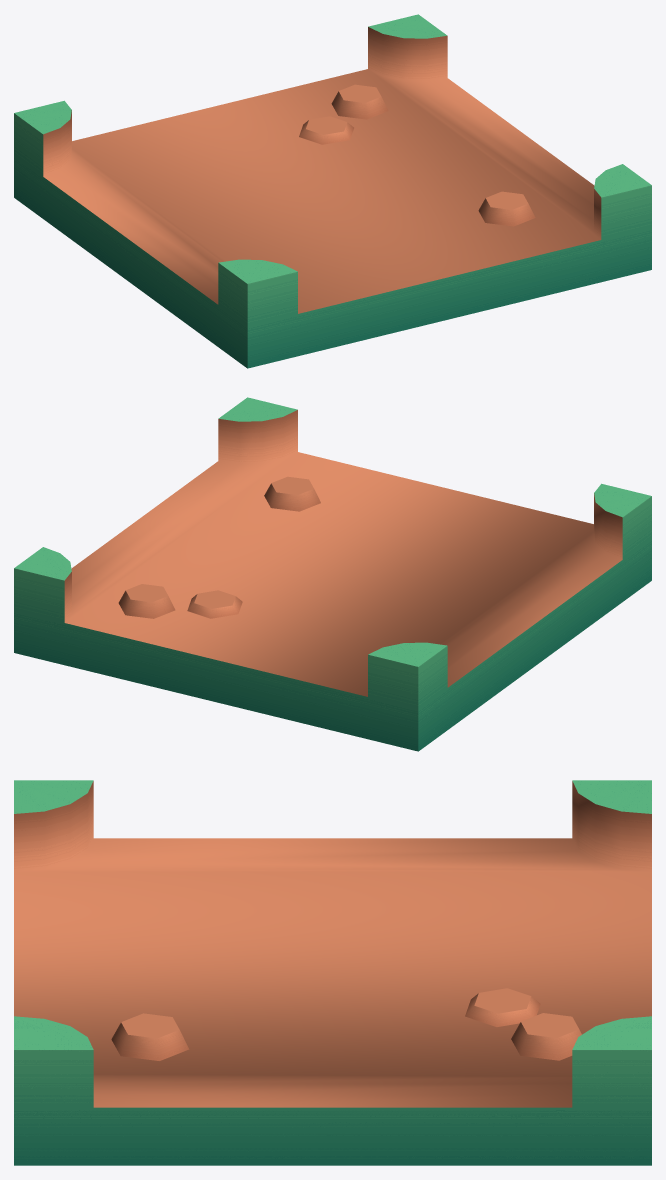
File: tower-defense-kit--tile-crossing.glb
The picture shows the model from 3 angles, top to bottom: view 1: azimuth 30°, elevation 25°; view 2: azimuth 150°, elevation 25°; view 3: azimuth 270°, elevation 25°; orthographic projection. The views are drawn at different scales.
Parts seen in each view (by area): view 1: tile-crossing; view 2: tile-crossing; view 3: tile-crossing.
Part boxes in pixels (<box>): tile-crossing: <box>14,14,651,368</box>; tile-crossing: <box>14,397,651,751</box>; tile-crossing: <box>14,780,651,1165</box>.
Bounding box in the file's own units: 1 × 0.2 × 1.
1 material, 1 textured.
